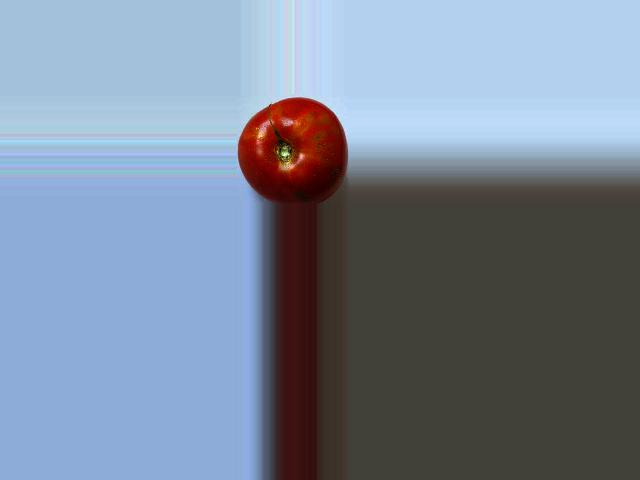tomato: (237, 98, 347, 204)
